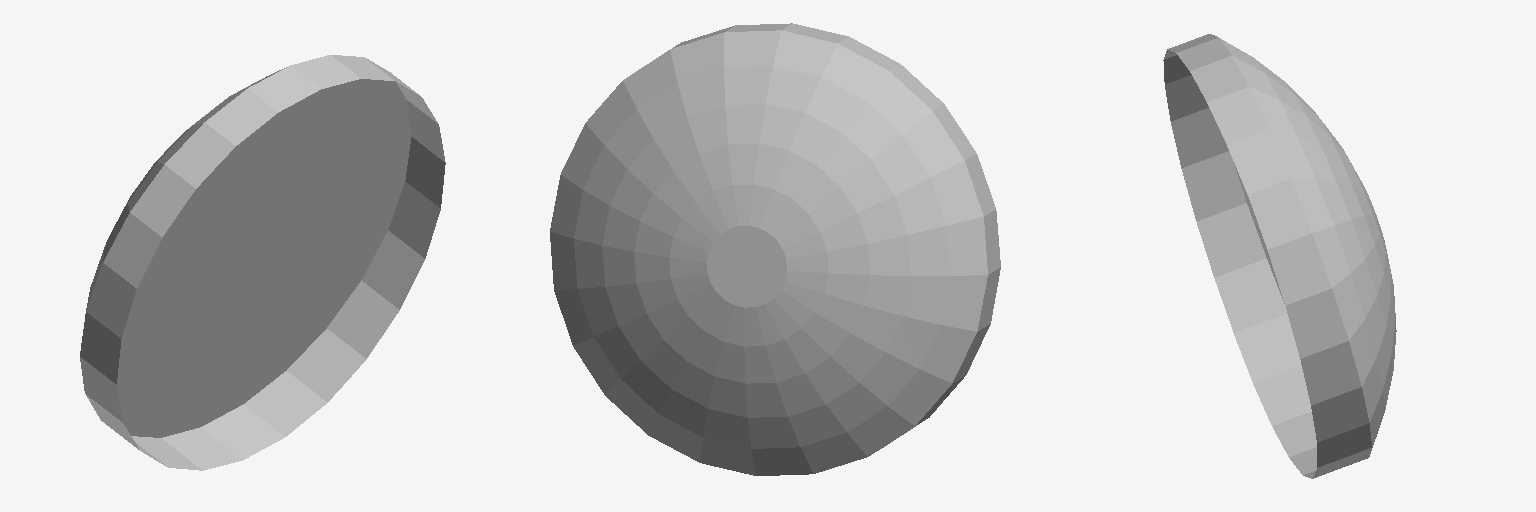
Rendered from original-16.obj.
The picture shows the model from 3 angles: view 1: azimuth 30°, elevation 25°; view 2: azimuth 150°, elevation 25°; view 3: azimuth 270°, elevation 25°; orthographic projection.
Parts seen in each view (by area): view 1: group_7/ID75#ID75; view 2: group_7/ID75#ID75; view 3: group_7/ID75#ID75.
Part boxes in pixels (x1,y1,x2,y2): group_7/ID75#ID75: (80,55,445,470); group_7/ID75#ID75: (550,23,1000,475); group_7/ID75#ID75: (1163,34,1396,478).
Bounding box in the file's own units: 0.0261 × 0.0263 × 0.0135.